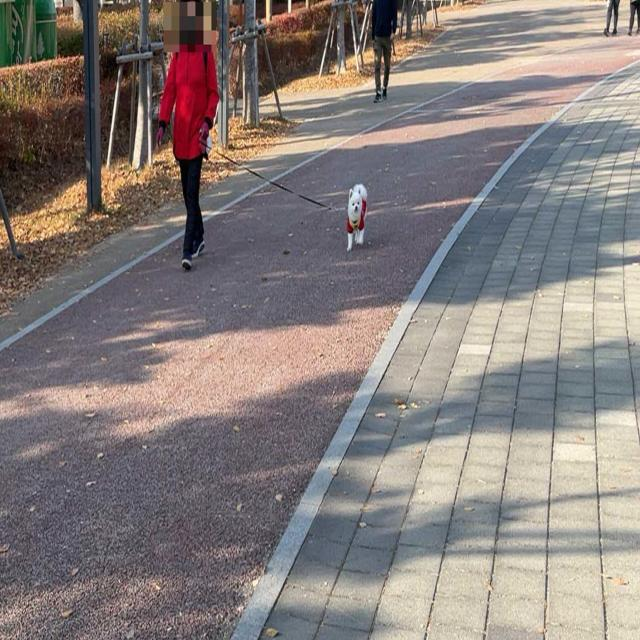Leashed_Dog: (189, 116, 369, 254)
